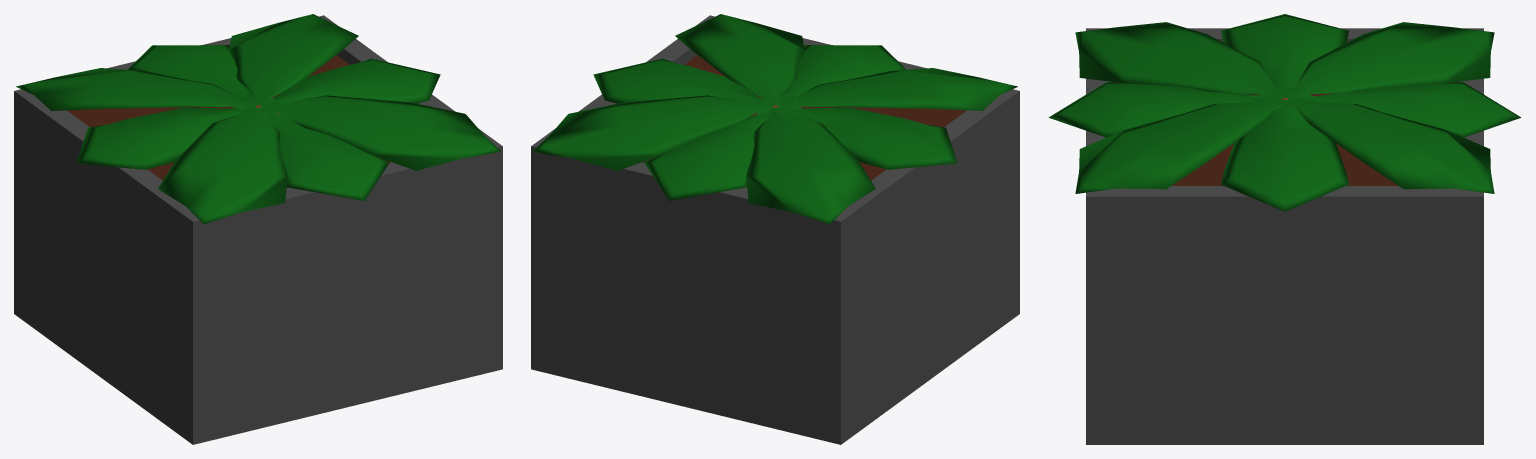
Rendered from PottedFern.fbx.
3 renders of one model, left to right at view 1: azimuth 30°, elevation 25°; view 2: azimuth 150°, elevation 25°; view 3: azimuth 270°, elevation 25°, orthographic. The views are drawn at different scales.
Visible parts, largest first — view 1: Cube; view 2: Cube; view 3: Cube.
Part boxes in pixels (<box>): Cube: <box>14,14,502,444</box>; Cube: <box>531,14,1019,444</box>; Cube: <box>1049,14,1520,444</box>.
Size of the model in its own units: 235 by 149 by 238.
